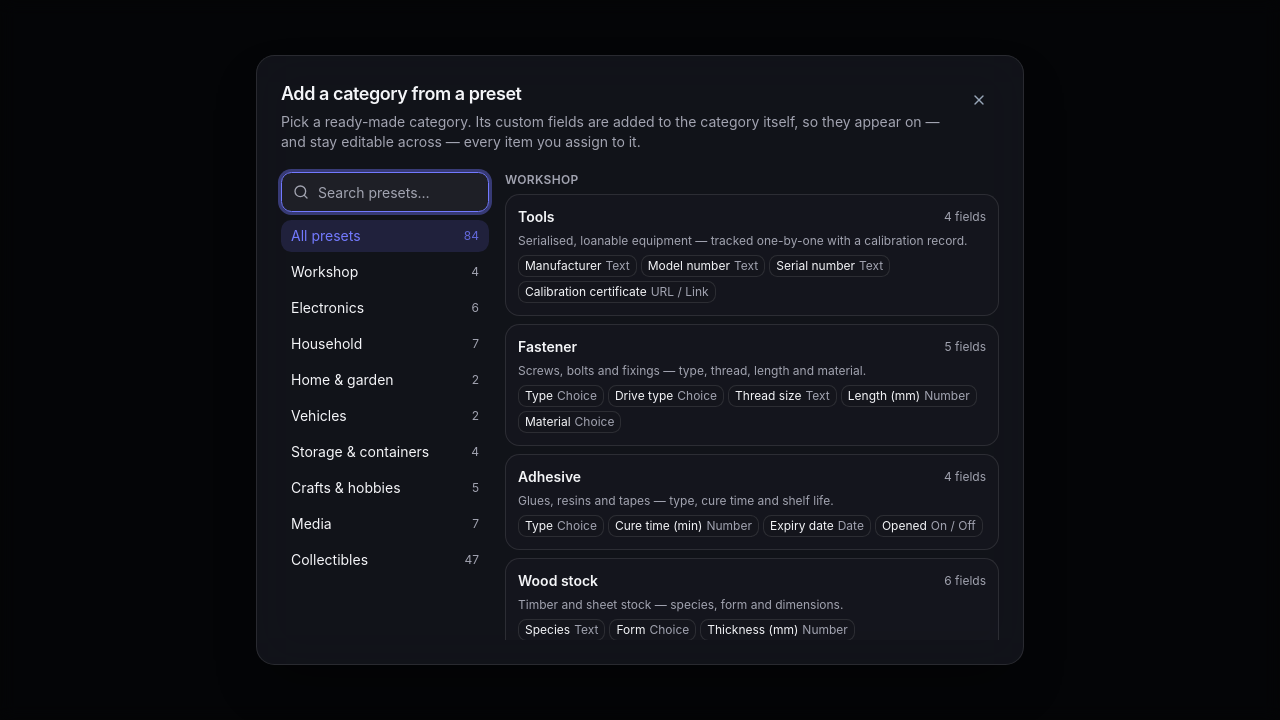
it: CategoryPresetPickerDialog — search › filters the rows across the whole library and reports the count
This screenshot has width=1280, height=720.
Click the button "Workshop 4": coordinates (385, 272) [281,256,489,288]
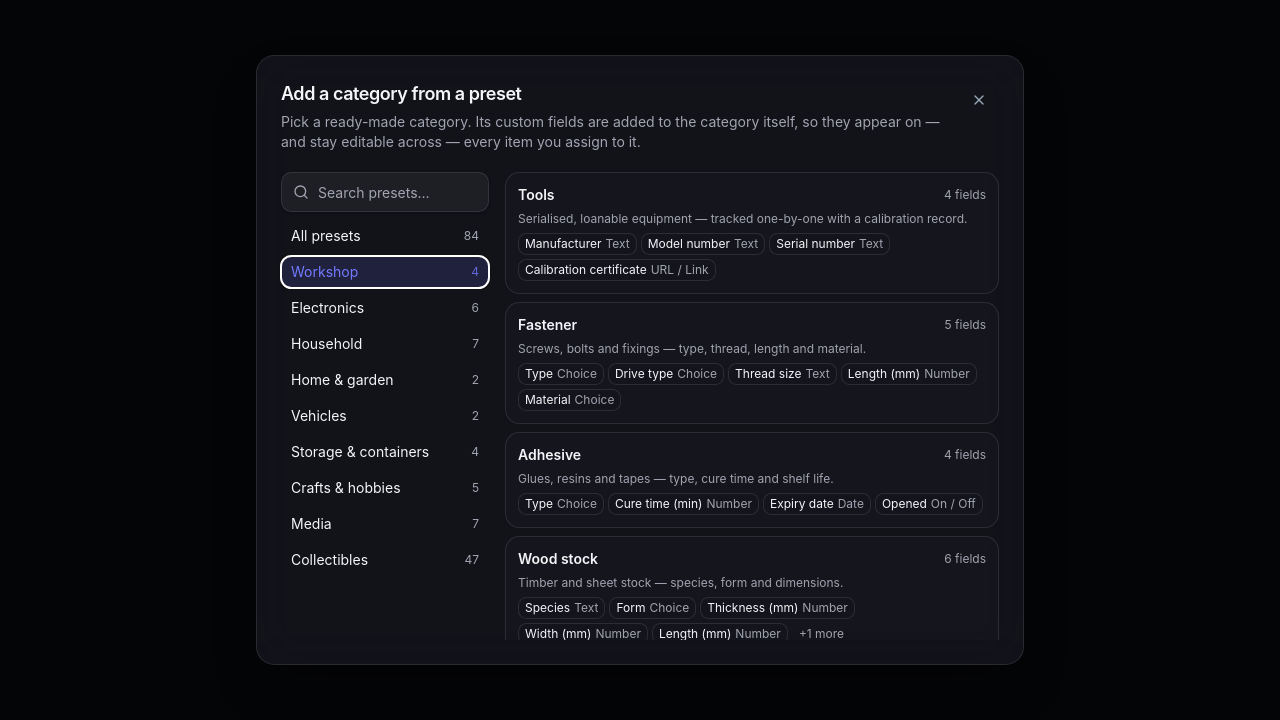
In the field labelled "Search presets": coordinates (385, 192) [281,172,489,212], type "isbn"
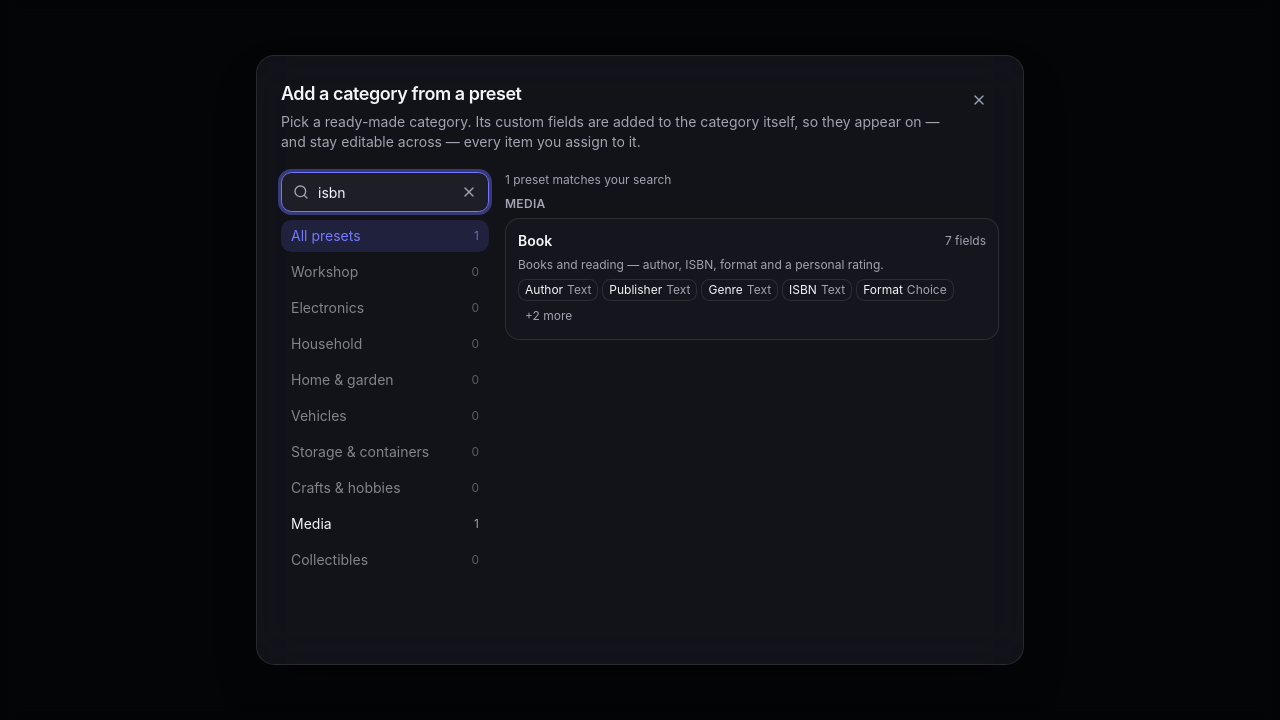
Now the button with aria-label "Add Book preset" is shown, box [505,218,999,340]
Now the text "1 preset matches your search" is shown, box [505,172,671,187]
Now the button with aria-label "Workshop — 0 presets" is shown, box [281,256,489,288]
